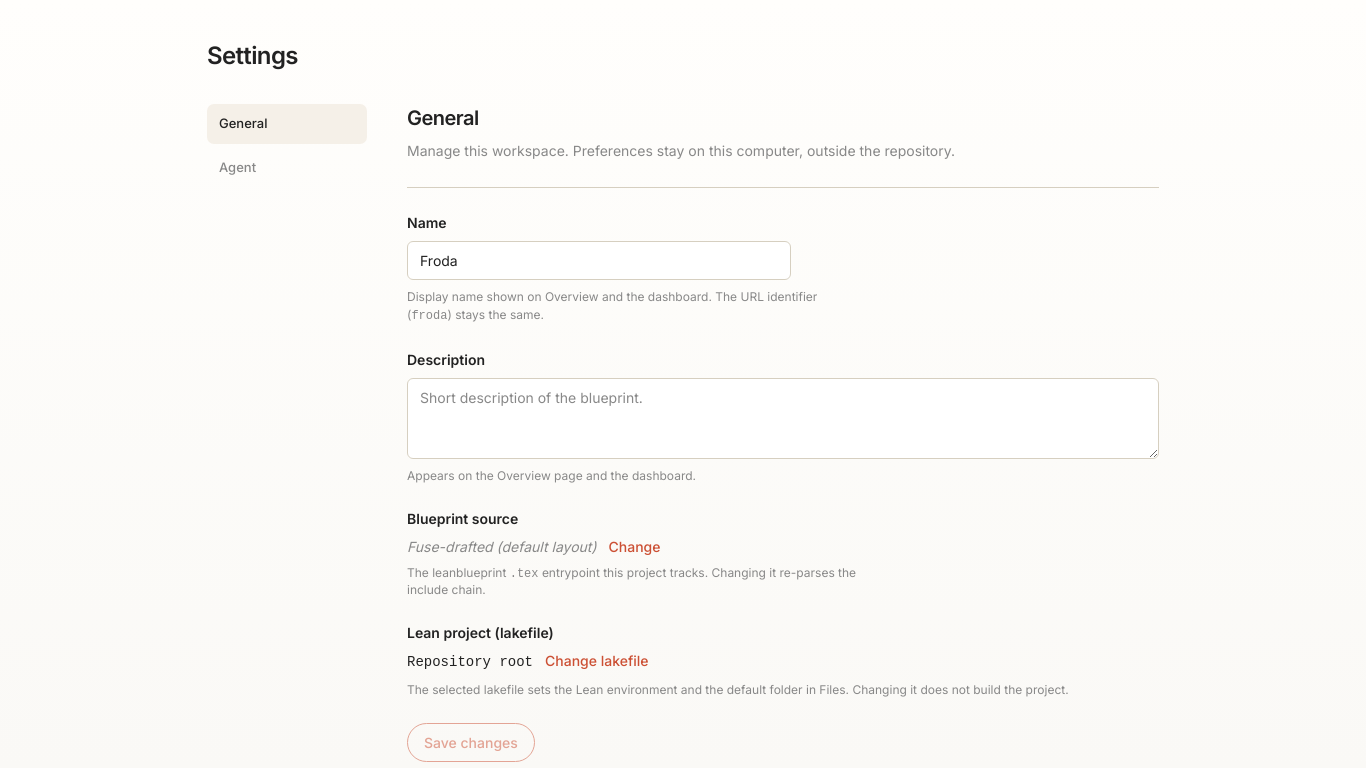
Test: SettingsMode › does not switch projects when saving an open file fails
Click the button "Change lakefile": {"x": 597, "y": 661} [545,651,648,671]
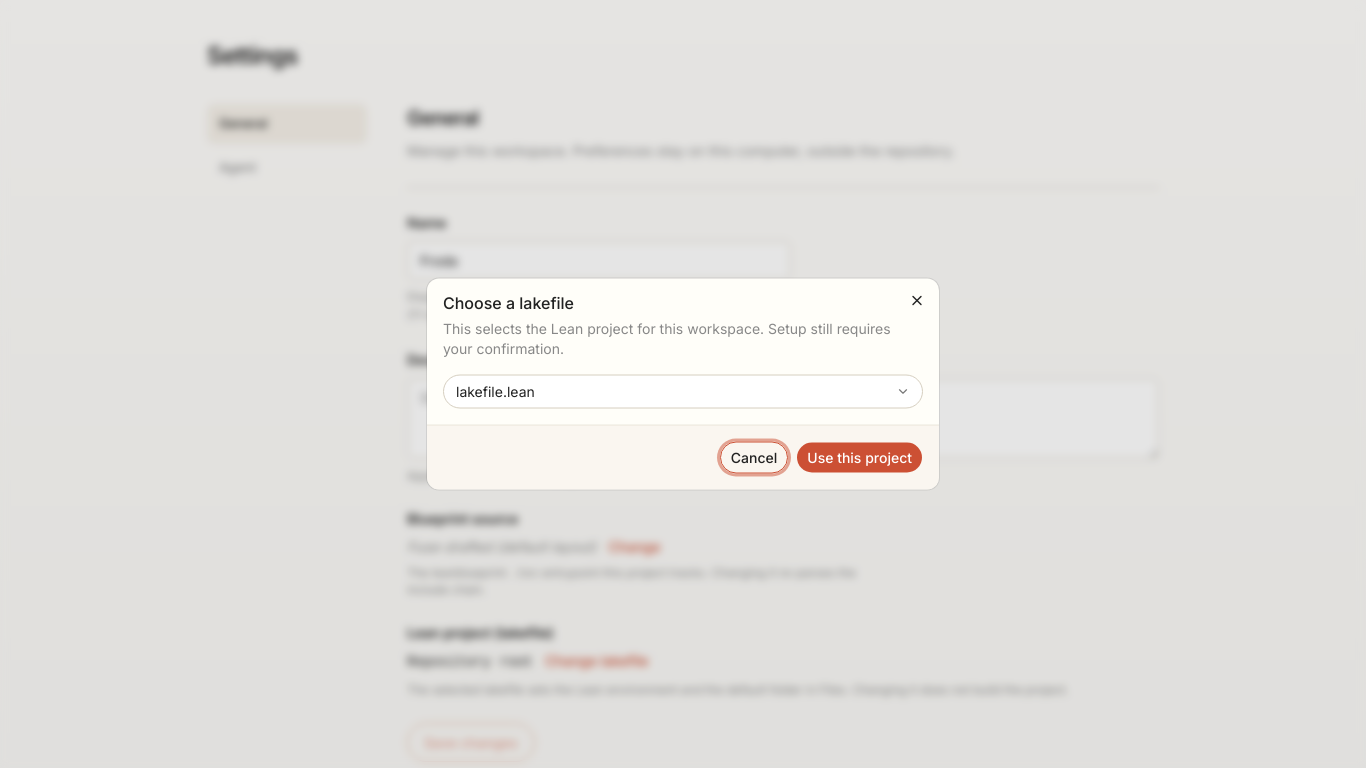
Result: the button with aria-label "Lakefile: lakefile.lean" is shown at [443,374,923,408]
Click the button "Use this project": {"x": 860, "y": 458} [796,442,923,474]
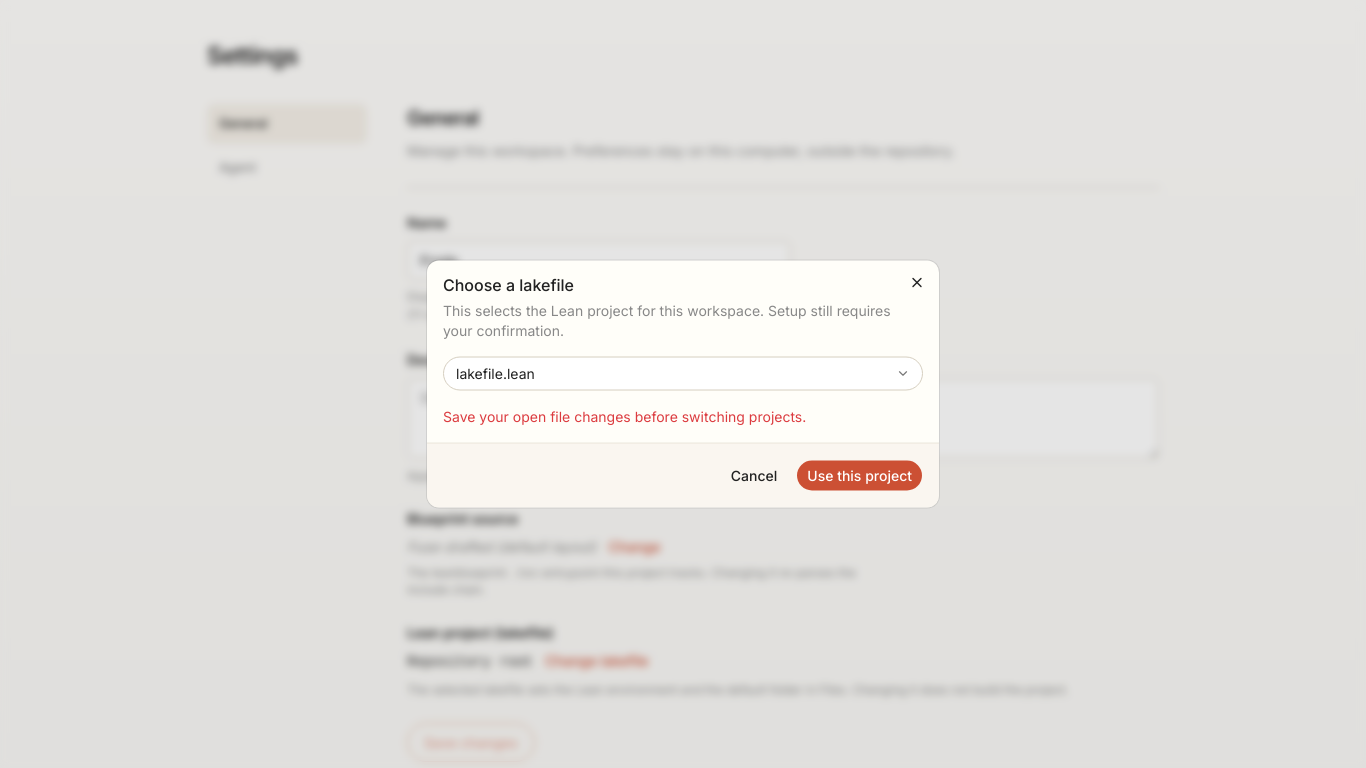
Result: the message shows "Save your open file changes" at [443,408,806,424]
